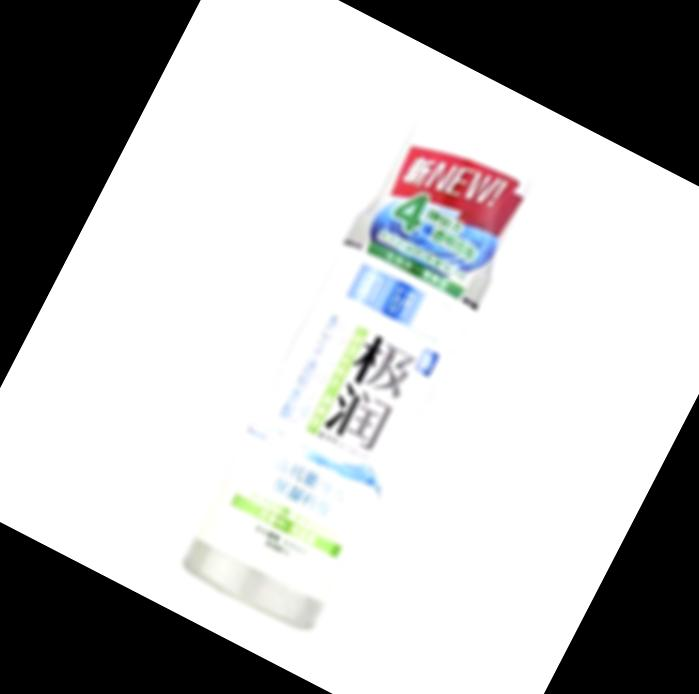cosmetic: (178, 98, 546, 626)
